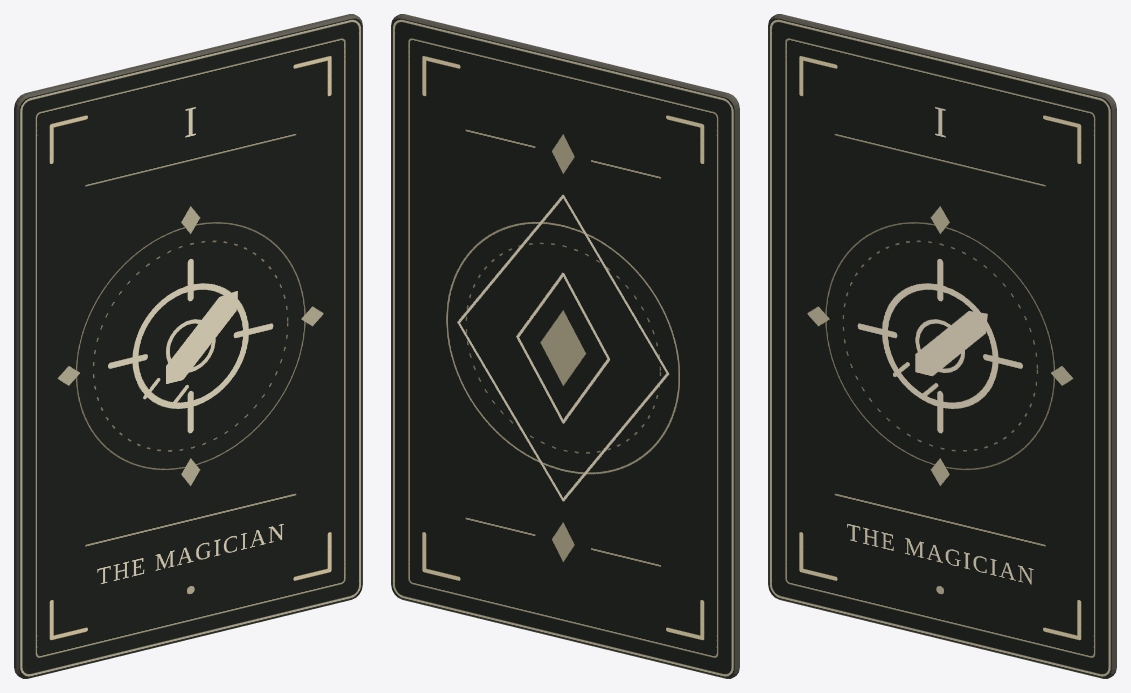
The model's file is magician.glb.
3 views of the same model, side by side, from view 1: azimuth 30°, elevation 25°; view 2: azimuth 150°, elevation 25°; view 3: azimuth 330°, elevation 25° (orthographic).
Parts seen in each view (by area): view 1: magician; view 2: magician; view 3: magician.
Part boxes in pixels (x1,y1,x2,y2): magician: [14, 14, 362, 678]; magician: [391, 14, 739, 678]; magician: [768, 14, 1116, 678].
Size of the model in its own units: 0.18 by 0.29 by 0.004.
3 materials, 2 textured.
